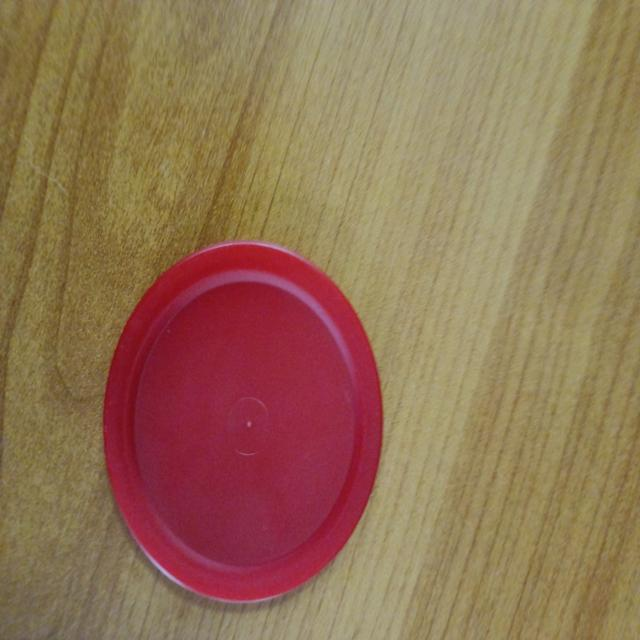chip: (96, 240, 382, 604)
